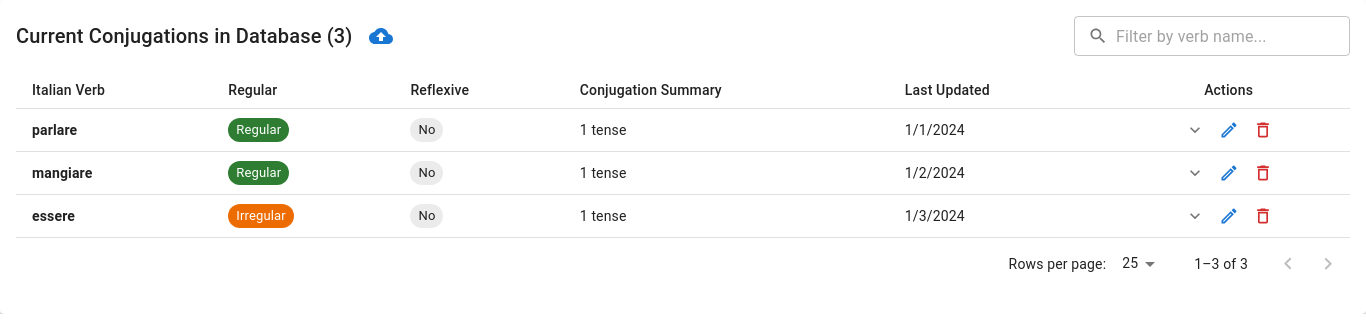
Test case: ConjugationsList › Filtering › should filter conjugations by verb name
The width and height of the screenshot is (1366, 331).
Type "parlare" into the field with placeholder "Filter by verb name..." at (1233,36), box [1116, 16, 1350, 56]
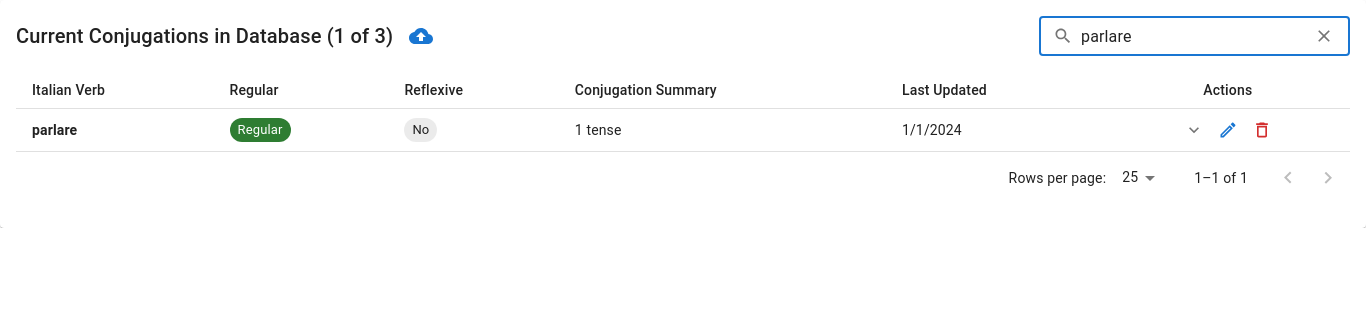
Expected: the text "parlare" is shown, [32, 122, 77, 138]
Result: the text "mangiare" is gone
Result: the text "essere" is gone
